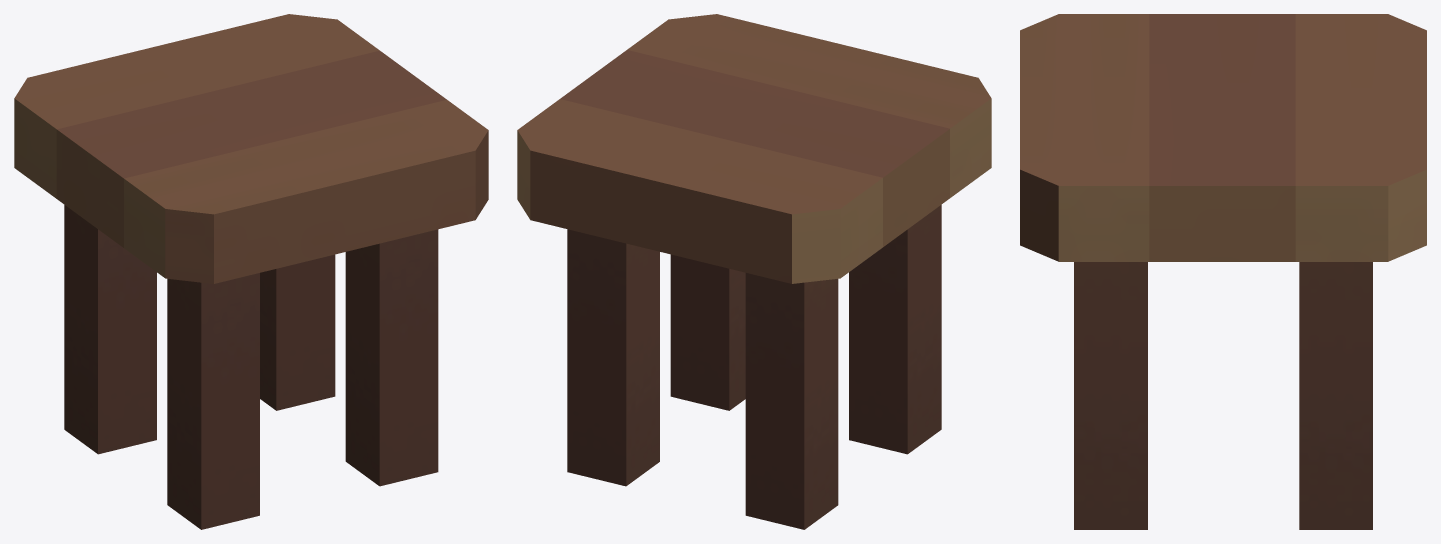
The model's file is table_small.fbx.
The picture shows the model from 3 angles, left to right: view 1: azimuth 30°, elevation 25°; view 2: azimuth 150°, elevation 25°; view 3: azimuth 270°, elevation 25°; orthographic projection. The views are drawn at different scales.
Visible parts, largest first — view 1: table_small; view 2: table_small; view 3: table_small.
Part boxes in pixels (x1,y1,x2,y2): table_small: (14,14,488,529); table_small: (517,14,991,529); table_small: (1020,14,1426,529).
Size of the model in its own units: 62.23 by 61.95 by 62.23.
